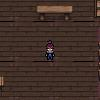Obstacle: (35, 4, 74, 21)
Victim: (43, 38, 56, 61)
